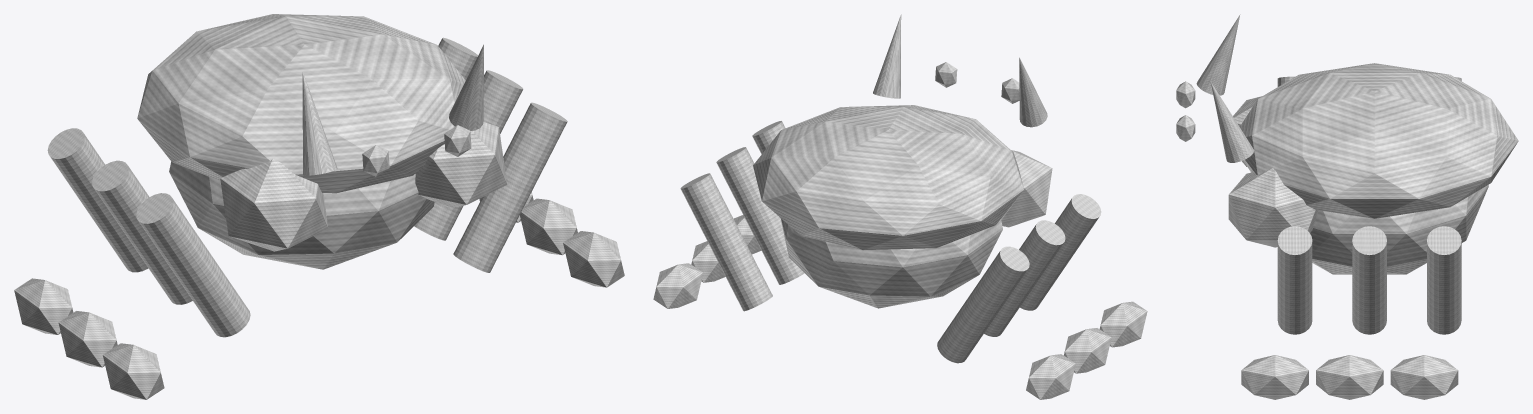
File: fauna-elite-flying-crab-hatcher_variant_d.glb
The picture shows the model from 3 angles, left to right: view 1: azimuth 30°, elevation 25°; view 2: azimuth 150°, elevation 25°; view 3: azimuth 270°, elevation 25°; orthographic projection. The views are drawn at different scales.
Visible parts, largest first — view 1: Carapace, Creature thorax, Head.007, Jointed limb.021, Jointed limb.018, Head, Jointed limb.020, Jointed limb.019, Jointed limb.022, Foot.019, Foot.022, Foot.021 (+7 smaller); view 2: Carapace, Creature thorax, Jointed limb.023, Jointed limb.020, Jointed limb.022, Jointed limb.019, Jointed limb.018, Head.007, Foot, Foot.021, Foot.019, Foot.020 (+6 smaller); view 3: Carapace, Creature thorax, Head, Jointed limb.021, Jointed limb.022, Jointed limb.023, Foot, Foot.022, Foot.023, Antenna, Antenna.007, Eye (+2 smaller).
Part boxes in pixels (x1,y1,x2,y2): Carapace: (137,14,465,193); Creature thorax: (169,161,434,269); Head.007: (220,159,328,251); Jointed limb.021: (453,102,567,272); Jointed limb.018: (136,193,250,337); Head: (415,122,507,207); Jointed limb.020: (47,128,148,272); Jointed limb.019: (92,160,192,304); Jointed limb.022: (414,70,523,240); Foot.019: (103,343,164,399); Foot.022: (563,231,624,287); Foot.021: (14,278,73,334); Carapace: (753,105,1023,250); Creature thorax: (780,218,1002,308); Jointed limb.023: (680,173,772,311); Jointed limb.020: (937,246,1029,363); Jointed limb.022: (716,147,804,284); Jointed limb.019: (984,220,1065,336); Jointed limb.018: (1020,194,1101,310); Head.007: (1001,150,1052,227); Foot: (653,263,703,308); Foot.021: (1026,354,1075,399); Foot.019: (1099,301,1147,347); Foot.020: (1064,328,1111,373); Carapace: (1240,63,1518,218); Creature thorax: (1310,185,1488,274); Head: (1228,167,1318,247); Jointed limb.021: (1277,226,1312,334); Jointed limb.022: (1352,226,1386,334); Jointed limb.023: (1427,226,1461,334); Foot: (1390,355,1458,399); Foot.022: (1241,355,1308,399); Foot.023: (1316,355,1383,399); Antenna: (1210,82,1254,162); Antenna.007: (1196,14,1240,95); Eye: (1176,115,1195,141).
Size of what is drawn, in the model's own units: 1.98 by 1.14 by 1.38.
5 materials, 5 textured.
